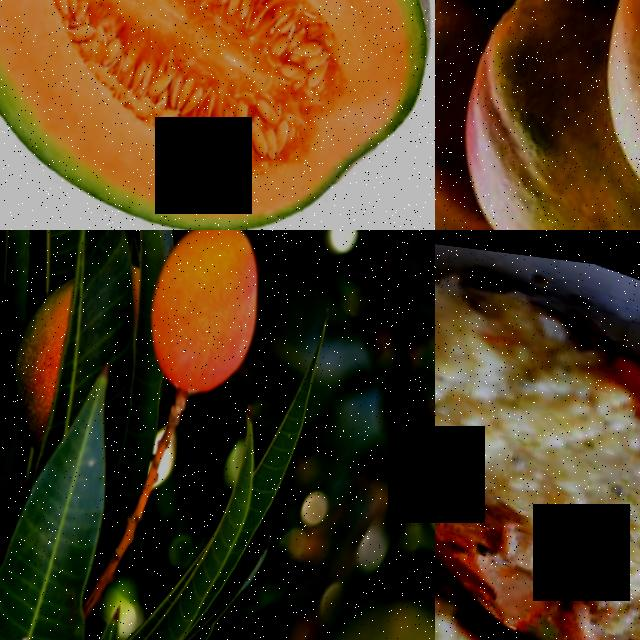mango: (435, 0, 626, 230), (131, 230, 275, 405), (0, 261, 83, 456), (570, 0, 640, 230)
melon: (0, 0, 435, 230)
